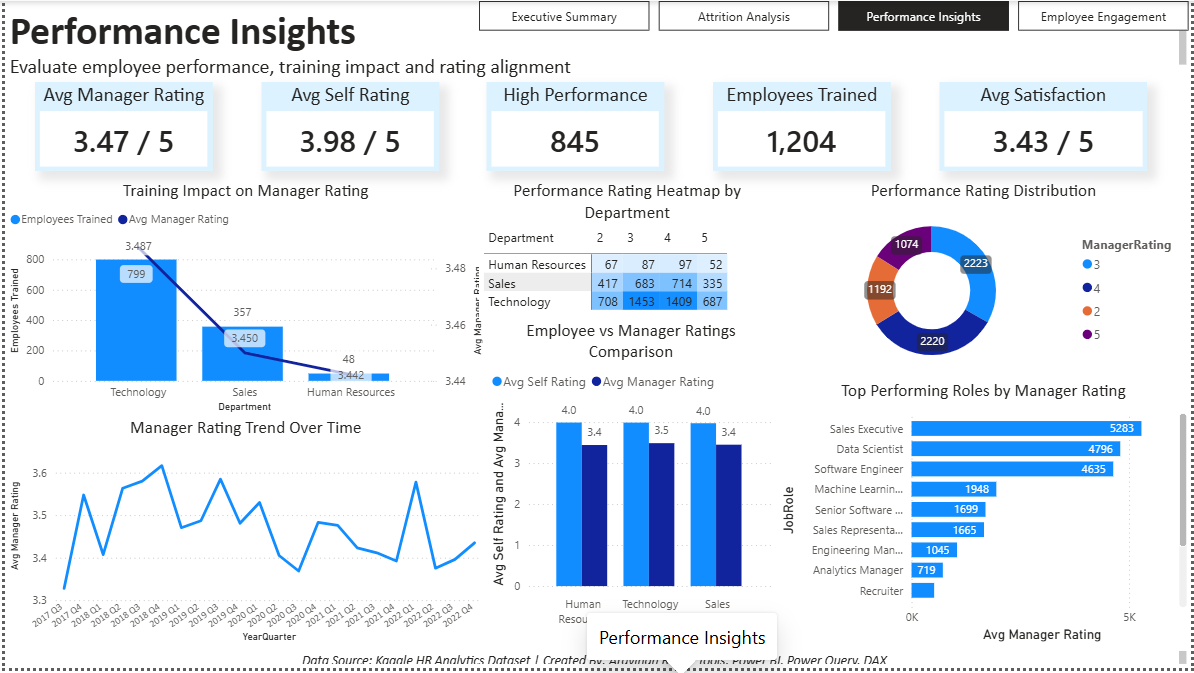

This screenshot's page, from the dashboard's own definition file:
{"tool":"powerbi","page":{"name":"Performance Insights","canvas":[1280,720],"ordinal":2},"visuals":[{"type":"textbox","box":[0,0,1280,88],"z":0},{"type":"cardVisual","title":"Avg Manager Rating","fields":{"Data":["Measure.Avg Manager Rating Display"]},"box":[32,88,192,96],"z":1000,"group":"g1"},{"type":"textbox","box":[0,696,1280,24],"z":1000},{"type":"cardVisual","title":"Employees Trained","fields":{"Data":["Measure.Employees Trained Display"]},"box":[764,88,192,96],"z":2000,"group":"g1"},{"type":"lineChart","title":"Manager Rating Trend Over Time","fields":{"Category":["DimDate.YearQuarter"],"Y":["Measure.Avg Manager Rating"]},"box":[0,448,520,248],"z":2000},{"type":"cardVisual","title":"Avg Satisfaction","fields":{"Data":["Measure.Avg Satisfaction Display"]},"box":[1008,88,224,96],"z":3000,"group":"g1"},{"type":"lineClusteredColumnComboChart","title":"Training Impact on Manager Rating","fields":{"Category":["DimEmployee.Department"],"Y2":["Measure.Avg Manager Rating"],"Y":["Measure.Employees Trained"]},"box":[0,192,520,256],"z":3000},{"type":"cardVisual","title":"Avg Self Rating","fields":{"Data":["Measure.Avg Self Rating Display"]},"box":[276,88,192,96],"z":4000,"group":"g1"},{"type":"donutChart","title":"Performance Rating Distribution","fields":{"Category":["FactPerformance.ManagerRating"],"Y":["CountNonNull(FactPerformance.EmployeeID)"]},"box":[832,192,448,216],"z":4000},{"type":"cardVisual","title":"High Performance","fields":{"Data":["Measure.High Performance Employees"]},"box":[520,88,192,96],"z":5000,"group":"g1"},{"type":"clusteredColumnChart","title":"Employee vs Manager Ratings Comparison","fields":{"Category":["DimEmployee.Department"],"Y":["Measure.Avg Self Rating","Measure.Avg Manager Rating"]},"box":[520,344,312,352],"z":5000},{"type":"pivotTable","title":"Performance Rating Heatmap by Department","fields":{"Rows":["DimEmployee.Department"],"Columns":["FactPerformance.ManagerRating"],"Values":["CountNonNull(FactPerformance.EmployeeID)"]},"box":[512,192,320,152],"z":6000},{"type":"barChart","title":"Top Performing Roles by Manager Rating","fields":{"Category":["DimEmployee.JobRole"],"Y":["Sum(FactPerformance.ManagerRating)"]},"box":[832,408,448,288],"z":7000},{"type":"group","id":"g1","title":"Group 1","box":[32,88,1200,96],"z":8000},{"type":"pageNavigator","box":[512,0,768,32],"z":9000}]}

Visuals, with their boxes in screenshot pixels (x1, y1, x2, y2), scaled from the page's 1280x720 canvas onto the 1194x673 screenshot:
textbox: 0/0/1193/82
"Avg Manager Rating" cardVisual: 30/82/209/172
textbox: 0/651/1193/672
"Employees Trained" cardVisual: 713/82/892/172
"Manager Rating Trend Over Time" lineChart: 0/419/485/651
"Avg Satisfaction" cardVisual: 940/82/1149/172
"Training Impact on Manager Rating" lineClusteredColumnComboChart: 0/179/485/419
"Avg Self Rating" cardVisual: 257/82/437/172
"Performance Rating Distribution" donutChart: 776/179/1193/381
"High Performance" cardVisual: 485/82/664/172
"Employee vs Manager Ratings Comparison" clusteredColumnChart: 485/322/776/651
"Performance Rating Heatmap by Department" pivotTable: 478/179/776/322
"Top Performing Roles by Manager Rating" barChart: 776/381/1193/651
"Group 1" group: 30/82/1149/172
pageNavigator: 478/0/1193/30
